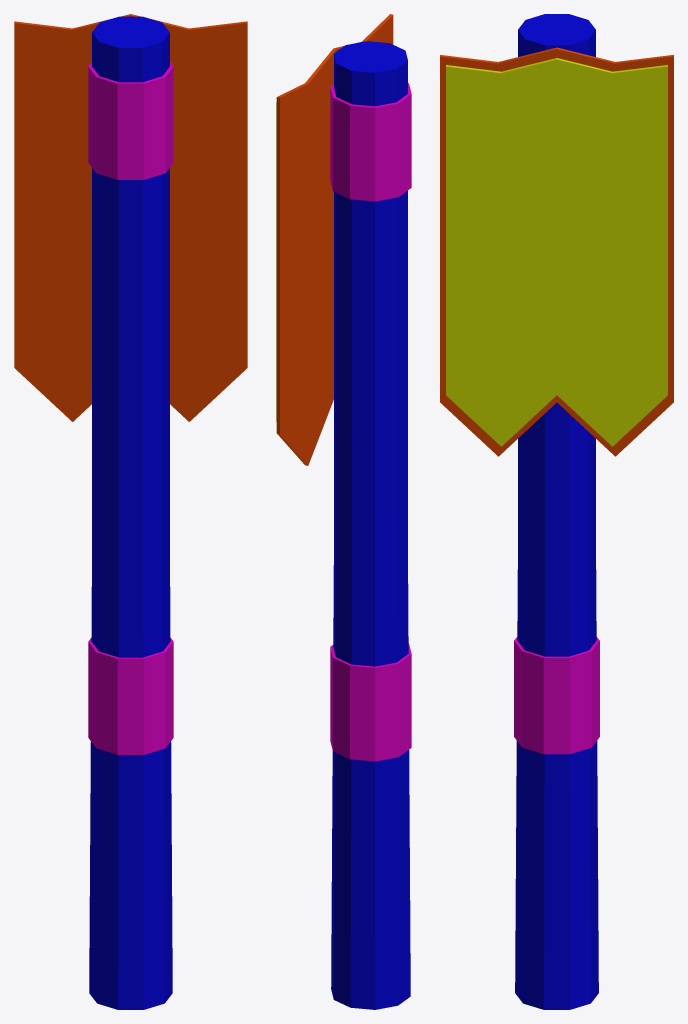
File: Flag.fbx
3 renders of one model, left to right at view 1: azimuth 90°, elevation 25°; view 2: azimuth 150°, elevation 25°; view 3: azimuth 270°, elevation 25°, orthographic. The views are drawn at different scales.
Visible parts, largest first — view 1: Cylinder; view 2: Cylinder; view 3: Cylinder.
Boxes of the visible parts, x1,y1,x2,y2 form: Cylinder: [14, 14, 247, 1009]; Cylinder: [276, 14, 411, 1009]; Cylinder: [440, 14, 673, 1009].
Bounding box in the file's own units: 229 × 2727 × 600.
